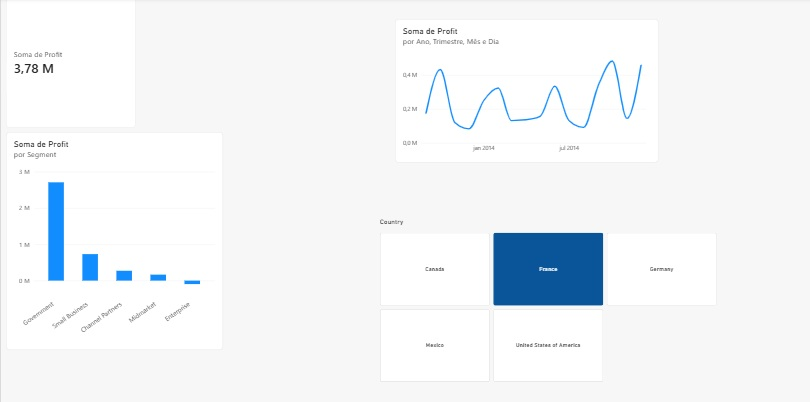

The page's visual inventory and layout, read from the dashboard file:
{"tool":"powerbi","page":{"name":"Lucro","canvas":[1920,1080],"ordinal":1},"visuals":[{"type":"cardVisual","fields":{"Data":["Sum(financials.Profit)"]},"box":[10,0,280,280],"z":0},{"type":"columnChart","fields":{"Category":["financials.Segment"],"Y":["Sum(financials.Profit)"]},"box":[10.1,289.8,468.7,471.2],"z":1},{"type":"lineChart","fields":{"Category":["financials.Date.Variação.Hierarquia de Datas.Ano","financials.Date.Variação.Hierarquia de Datas.Trimestre","financials.Date.Variação.Hierarquia de Datas.Mês","financials.Date.Variação.Hierarquia de Datas.Dia"],"Y":["Sum(financials.Profit)"]},"box":[851,45.4,569.4,309.9],"z":2},{"type":"advancedSlicerVisual","fields":{"Values":["financials.Country"]},"box":[818.6,475.2,728.2,355.3],"z":3}]}

Visuals, with their boxes on the page's 1920x1080 design canvas (x1, y1, x2, y2). These are canvas units, not pixel positions in the 810x402 screenshot, which may show the page scaled, cropped or inside an application window:
cardVisual - Sum(financials.Profit): select_region(10, 0, 290, 280)
columnChart - financials.Segment x Sum(financials.Profit): select_region(10, 290, 479, 761)
lineChart - financials.Date.Variação.Hierarquia de Datas.Ano x financials.Date.Variação.Hierarquia de Datas.Trimestre: select_region(851, 45, 1420, 355)
advancedSlicerVisual - financials.Country: select_region(819, 475, 1547, 830)
